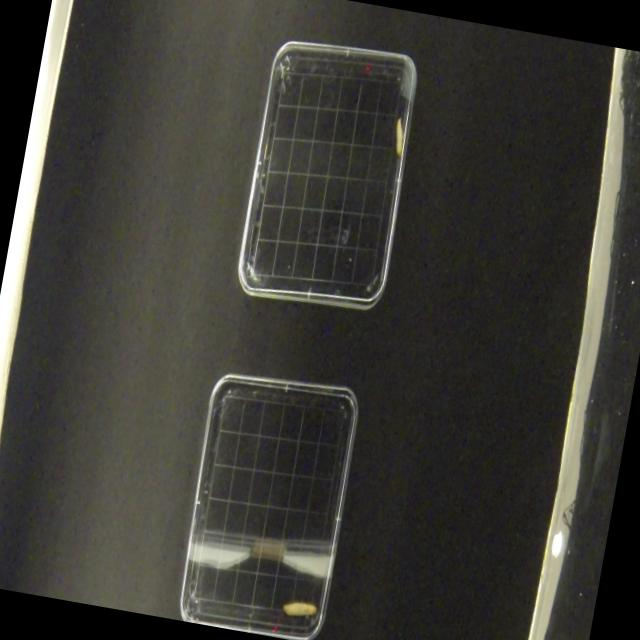larva: (386, 114, 408, 162), (280, 596, 320, 622)
